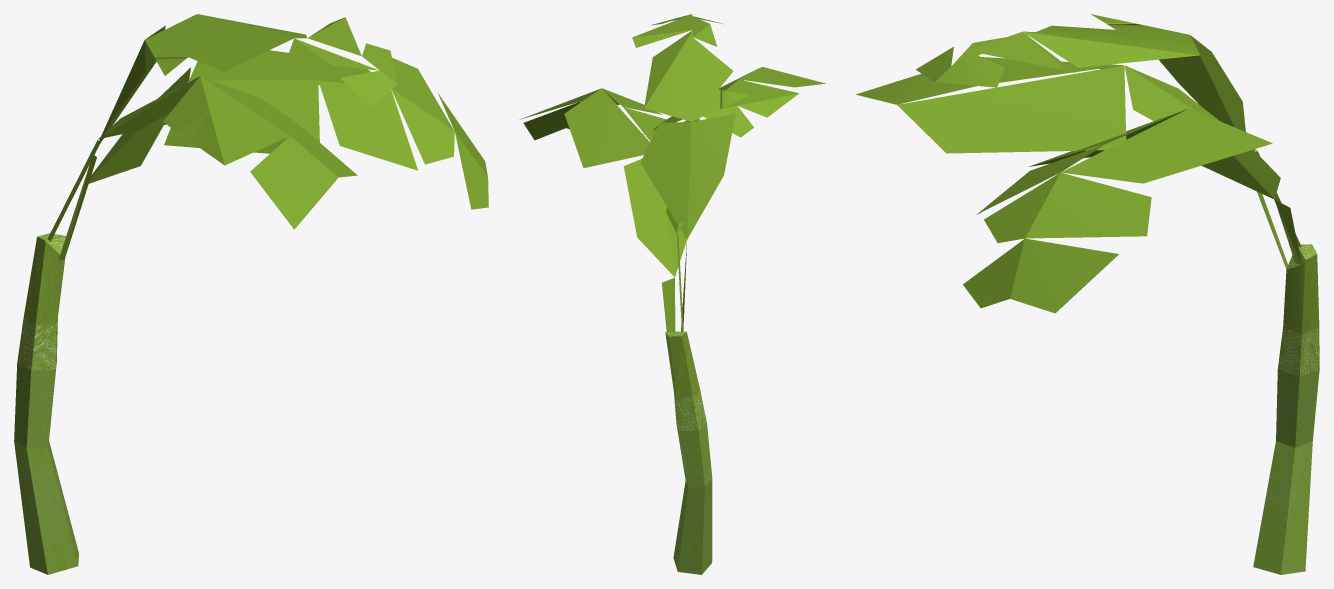
The model's file is Tree_Bamboo_10.fbx.
3 views of the same model, side by side, from view 1: azimuth 30°, elevation 25°; view 2: azimuth 150°, elevation 25°; view 3: azimuth 270°, elevation 25° (orthographic). The views are drawn at different scales.
Visible parts, largest first — view 1: Model; view 2: Model; view 3: Model.
Boxes of the visible parts, x1=… form: Model: x1=14, y1=14, x2=488, y2=574; Model: x1=519, y1=14, x2=825, y2=574; Model: x1=856, y1=14, x2=1319, y2=574.
Size of the model in its own units: 189 by 307 by 215.
